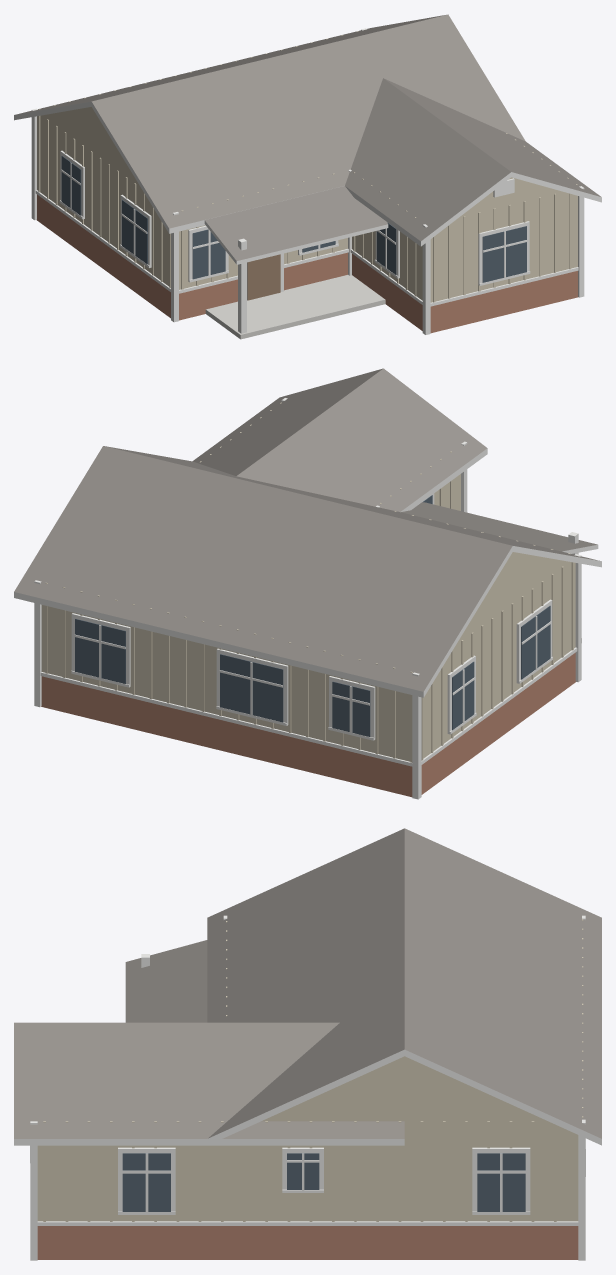
File: olive-craftsman.glb
3 renders of one model, top to bottom at view 1: azimuth 30°, elevation 25°; view 2: azimuth 150°, elevation 25°; view 3: azimuth 270°, elevation 25°, orthographic. The views are drawn at different scales.
Parts seen in each view (by area): view 1: The Olive (craftsman); view 2: The Olive (craftsman); view 3: The Olive (craftsman).
Boxes of the visible parts, x1,y1,x2,y2 form: The Olive (craftsman): [14, 14, 601, 339]; The Olive (craftsman): [14, 368, 601, 799]; The Olive (craftsman): [14, 828, 601, 1260].
Bounding box in the file's own units: 9.9 × 4.57 × 11.12.
